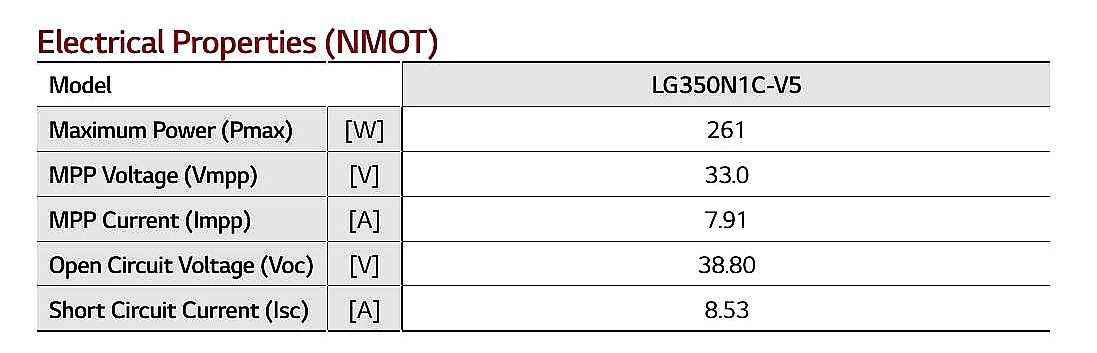table: (25, 16, 1063, 338)
table column: (403, 21, 1050, 333), (32, 20, 328, 326), (329, 23, 399, 329)
table column header: (35, 64, 1054, 107)
table name: (33, 21, 1049, 59)
table row: (30, 108, 1056, 151), (31, 288, 1058, 328), (31, 154, 1057, 194), (29, 66, 1056, 105), (32, 200, 1058, 239), (29, 21, 1052, 59), (30, 246, 1058, 283)
table row header: (31, 21, 328, 327), (328, 24, 401, 327)
table spanning cell: (28, 22, 1050, 65), (33, 61, 403, 104)
